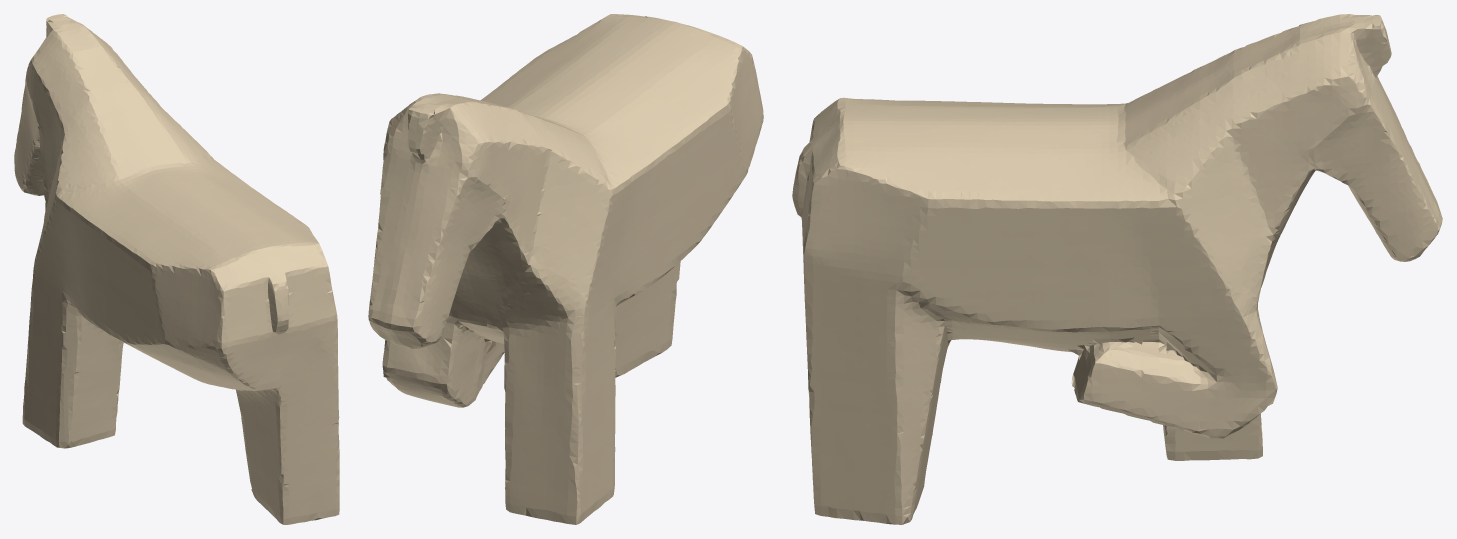
Rendered from dyr-04.glb.
The picture shows the model from 3 angles, left to right: view 1: azimuth 30°, elevation 25°; view 2: azimuth 150°, elevation 25°; view 3: azimuth 270°, elevation 25°; orthographic projection. The views are drawn at different scales.
Parts seen in each view (by area): view 1: ny-04; view 2: ny-04; view 3: ny-04.
Part boxes in pixels (box(x1,y1,x2,y2)): ny-04: box(14, 14, 339, 524); ny-04: box(368, 14, 763, 524); ny-04: box(792, 14, 1442, 524).
Bounding box in the file's own units: 0.3696 × 0.7734 × 0.9987.
